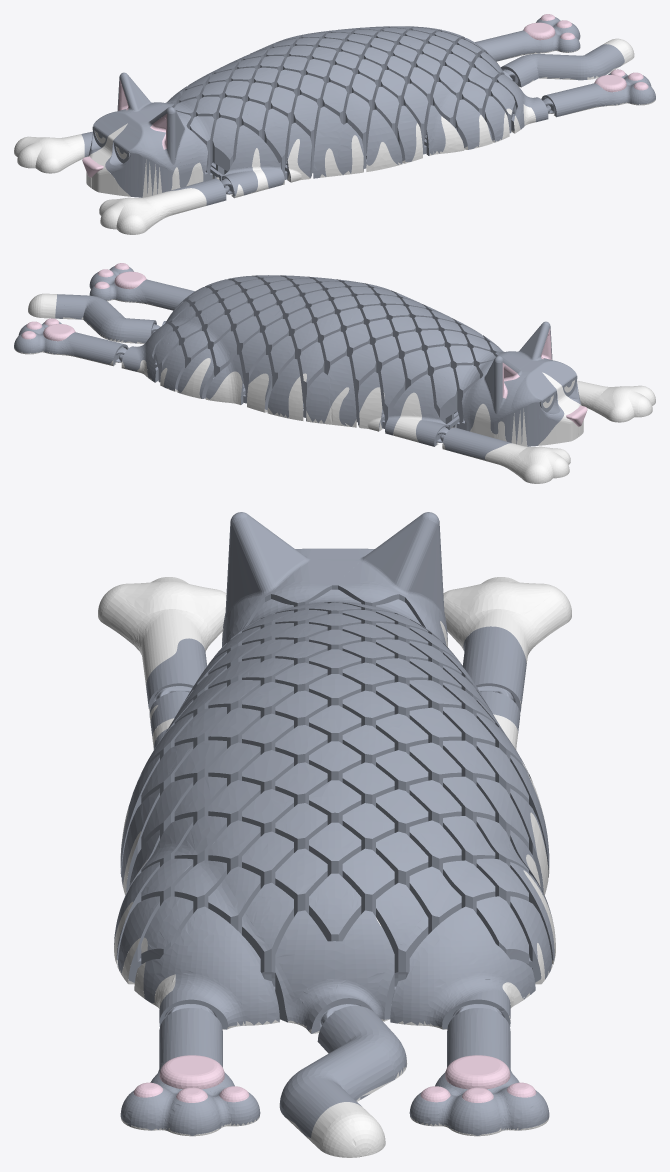
Rendered from gato-medias.glb.
3 renders of one model, top to bottom at view 1: azimuth 30°, elevation 25°; view 2: azimuth 150°, elevation 25°; view 3: azimuth 270°, elevation 25°, orthographic. The views are drawn at different scales.
Parts seen in each view (by area): view 1: cuerpo, medias, rosado; view 2: cuerpo, medias, rosado; view 3: cuerpo, medias, rosado.
Part boxes in pixels (<box>): cuerpo: <box>81,17,655,205</box>; medias: <box>14,38,655,234</box>; rosado: <box>82,14,648,177</box>; cuerpo: <box>14,266,581,459</box>; medias: <box>14,288,655,483</box>; rosado: <box>21,263,587,426</box>; cuerpo: <box>114,512,554,1137</box>; medias: <box>98,577,571,1157</box>; rosado: <box>133,1055,536,1102</box>.
Size of the model in its own units: 0.2227 by 0.0324 by 0.0795.
